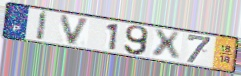1: (104, 23, 122, 51)
7: (185, 33, 213, 64)
9: (124, 25, 150, 57)
I: (35, 10, 50, 43)
V: (59, 14, 93, 47)
X: (152, 28, 182, 62)
